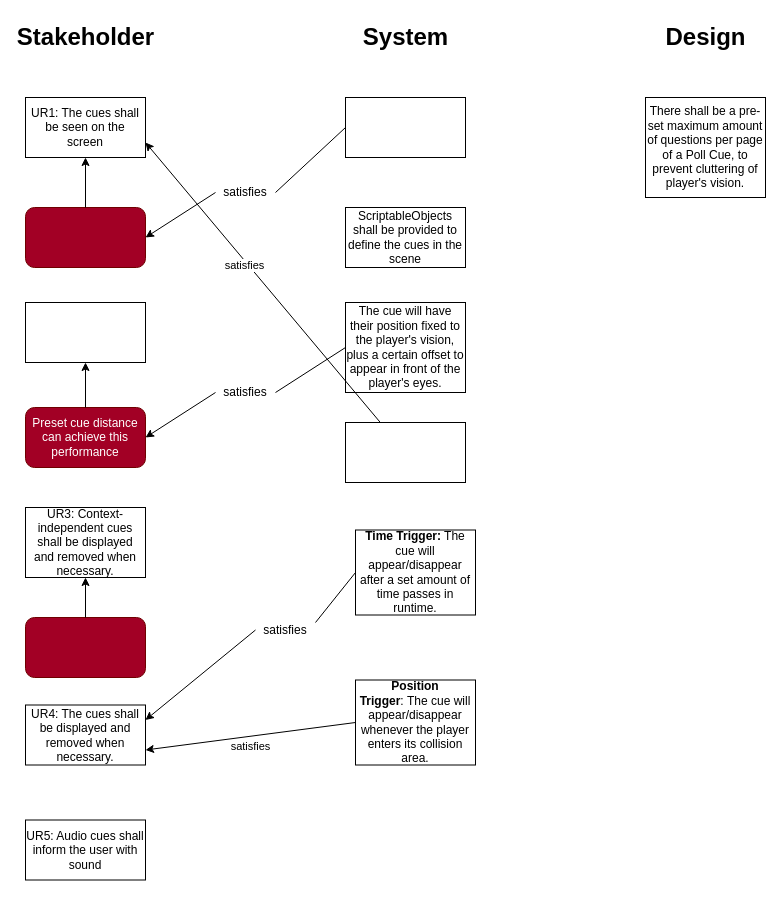
Some shapes in this 783 by 897 pixel diagram are drawn without their labels. Each missing label, with the centre of its shape:
"JSON shall be provided to define the cues in the scene" goes at point 405,127.
"One kind of given file can achieve this performance" goes at point 85,237.
"The cues shall be customizable from their colors to fonts and text sizes" goes at point 405,452.
"Two different predefined triggers can achieve this performance" goes at point 85,647.
"UR2: Context-dependent cues shall follow the player's vision." goes at point 85,332.
